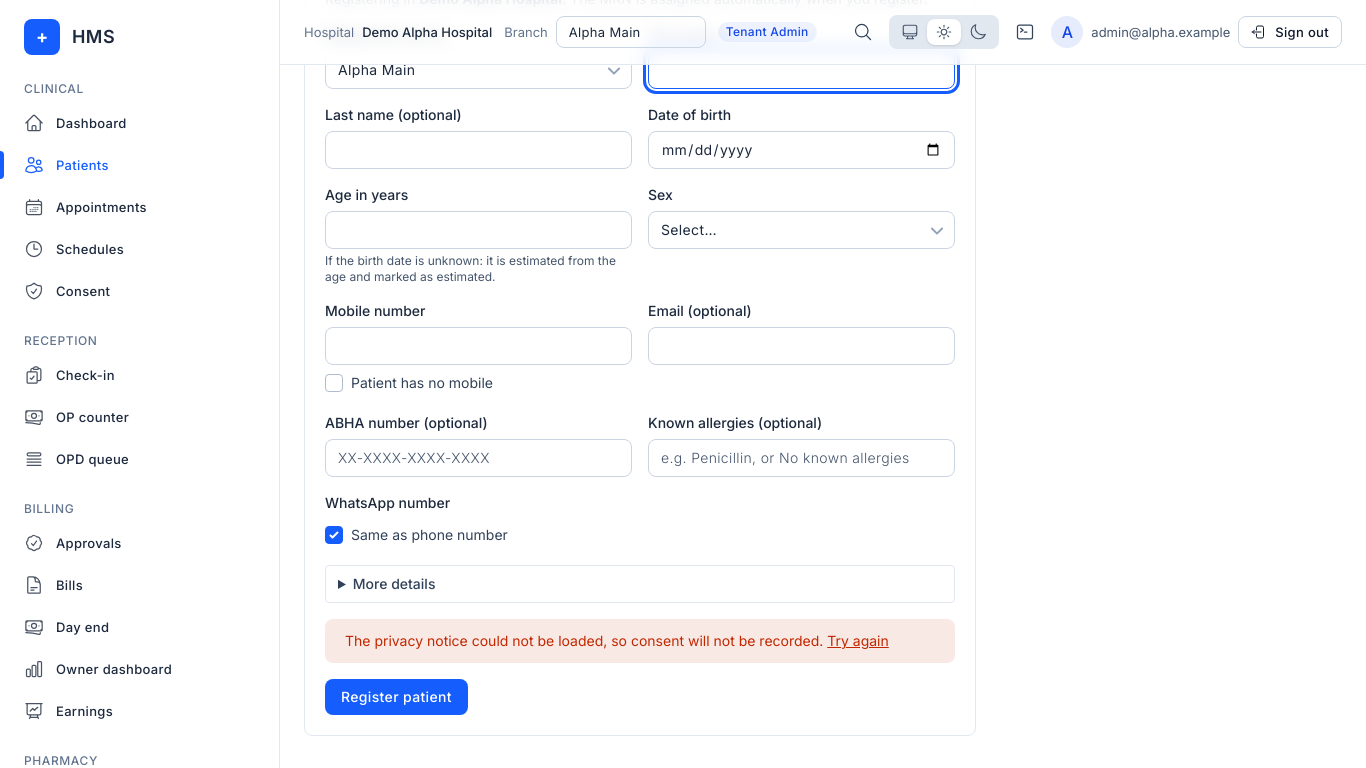
it: RegisterPatientPage › offers a retry when the notice fails to load (#129)
The width and height of the screenshot is (1366, 768).
(page scrolled)
Click the button with test id "consent-notice-retry": (858,641) [827,631,889,651]
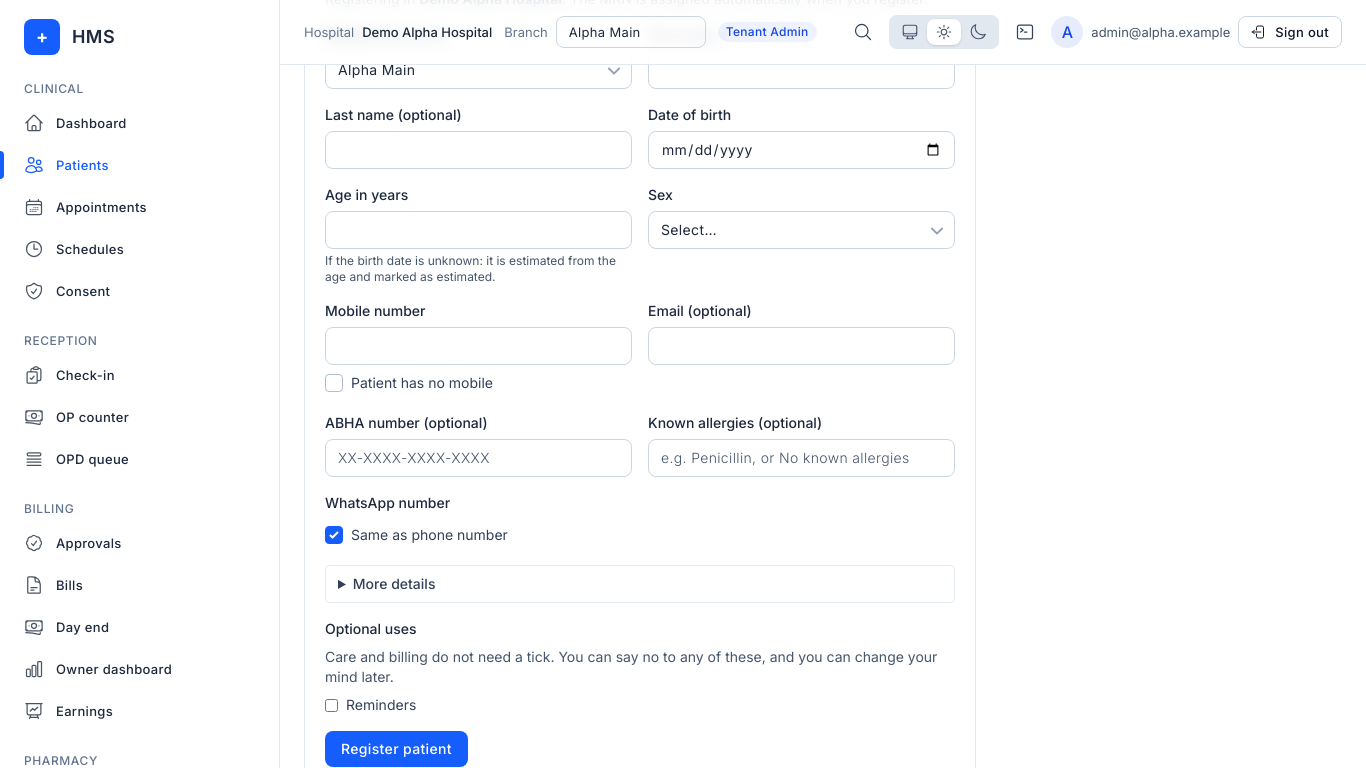
Check: the element "Optional uses" is shown, box [325,619,955,715]
